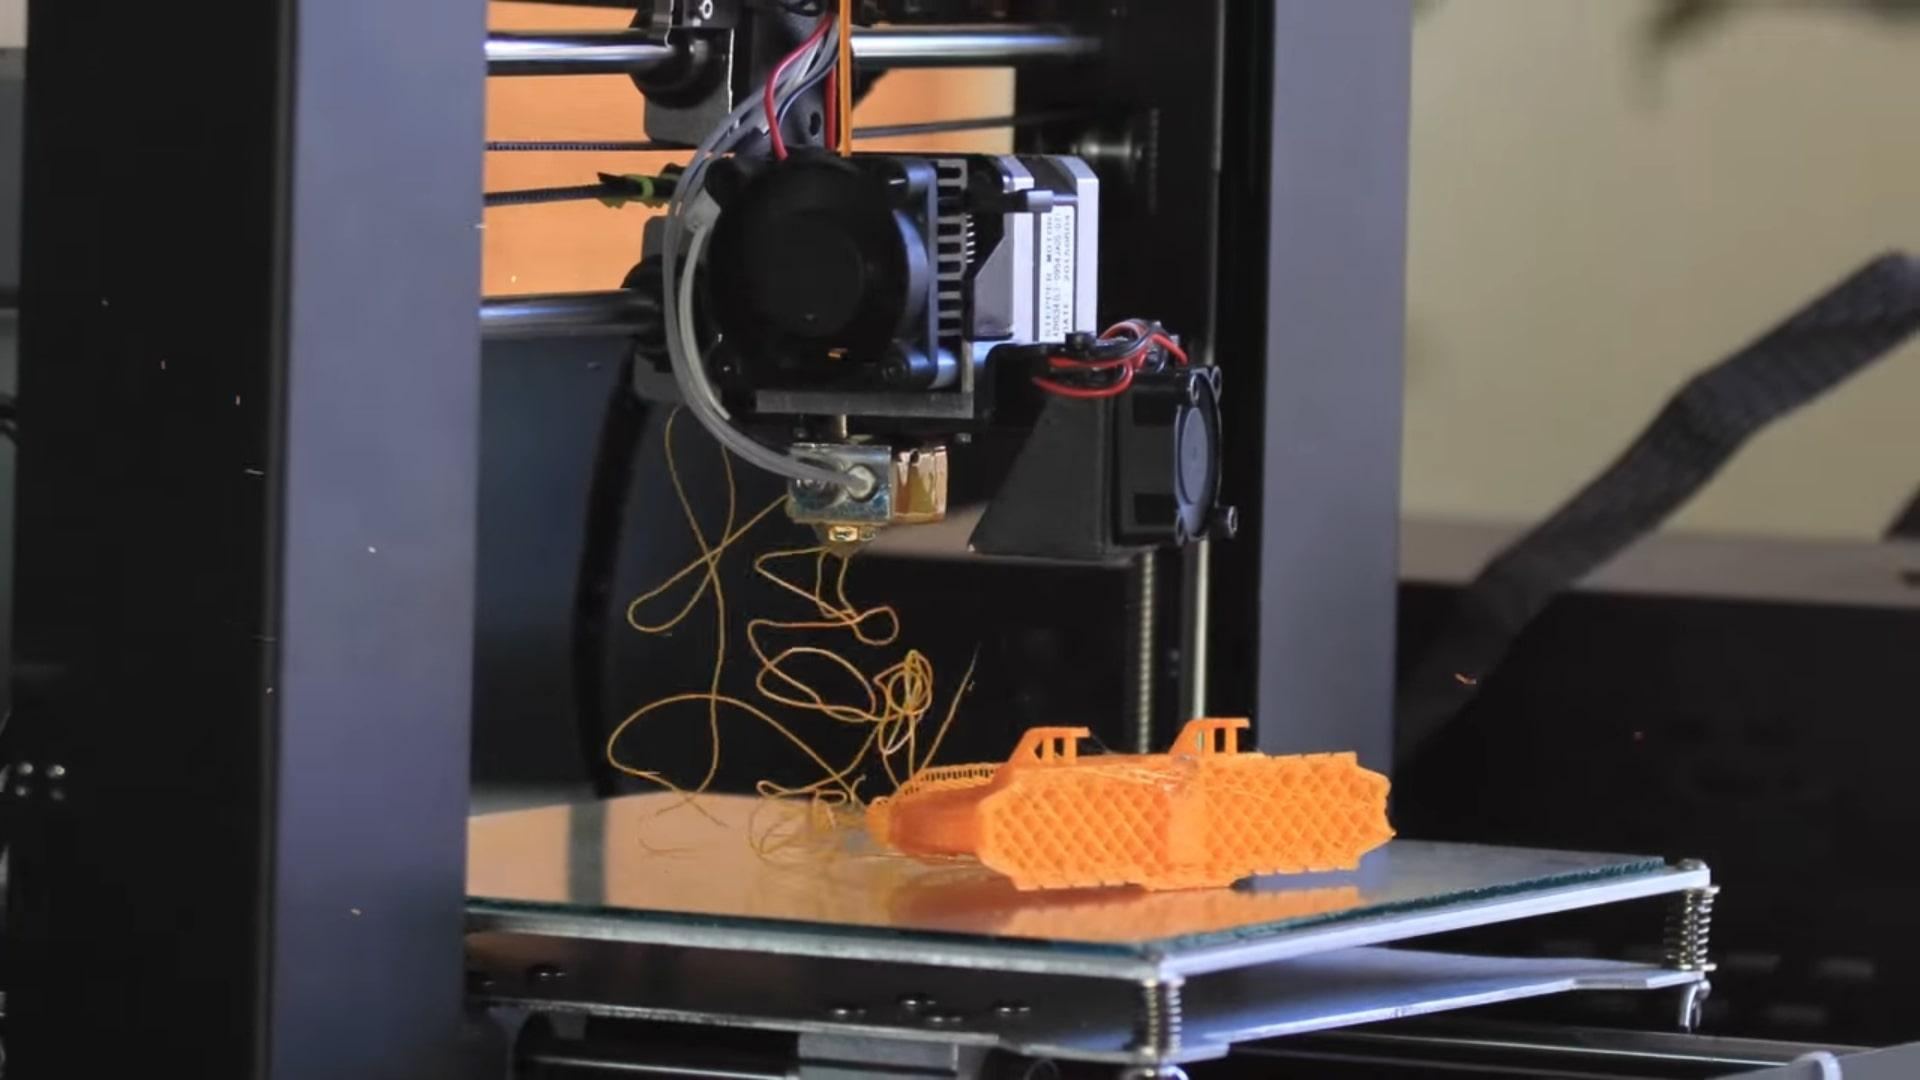Printing-Artifact: (671, 497, 943, 869)
